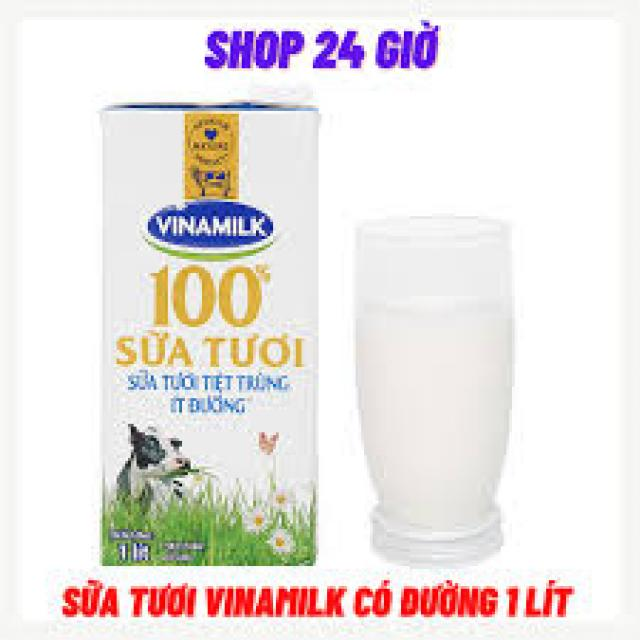non_white_jug: (70, 82, 351, 580)
